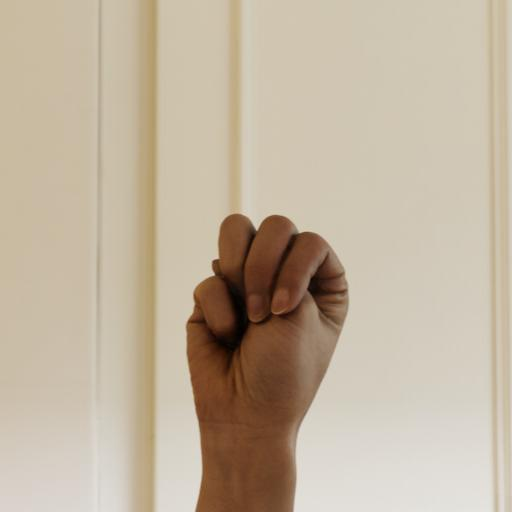M: (182, 205, 355, 437)
